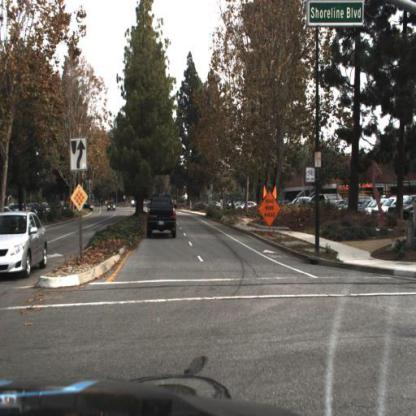car: (1, 212, 51, 280), (144, 192, 180, 243), (108, 202, 117, 214)
